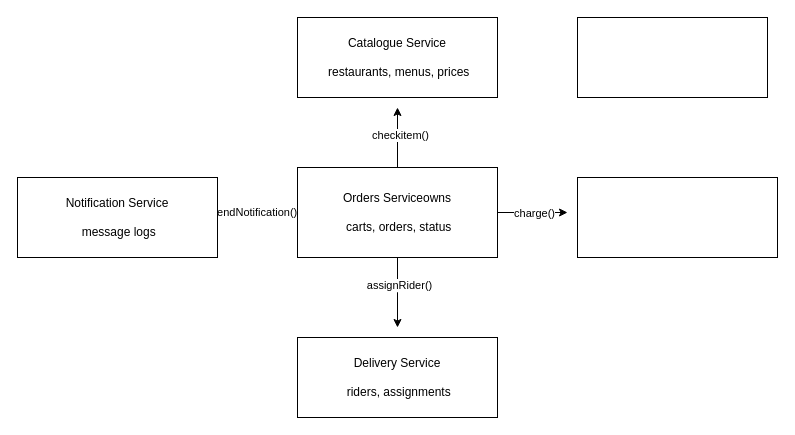
Image size: 795x435. Some labels were removed from this diagram. The shapes that lost their labels are listed below. From the top down, each one's box as (x1, y1, x2, y2) in pixels, then its label:
(576, 16, 768, 98): Accounts Service users, addresses, login
(576, 176, 778, 258): Payments Service transactions, refunds
